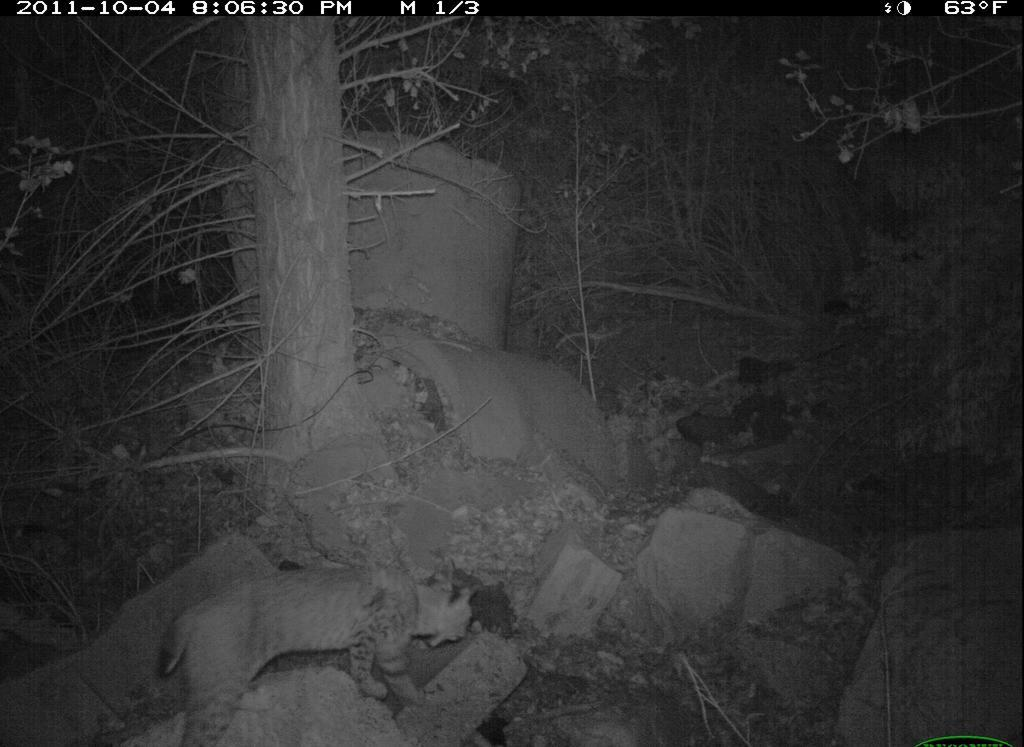bobcat: (146, 496, 432, 742)
